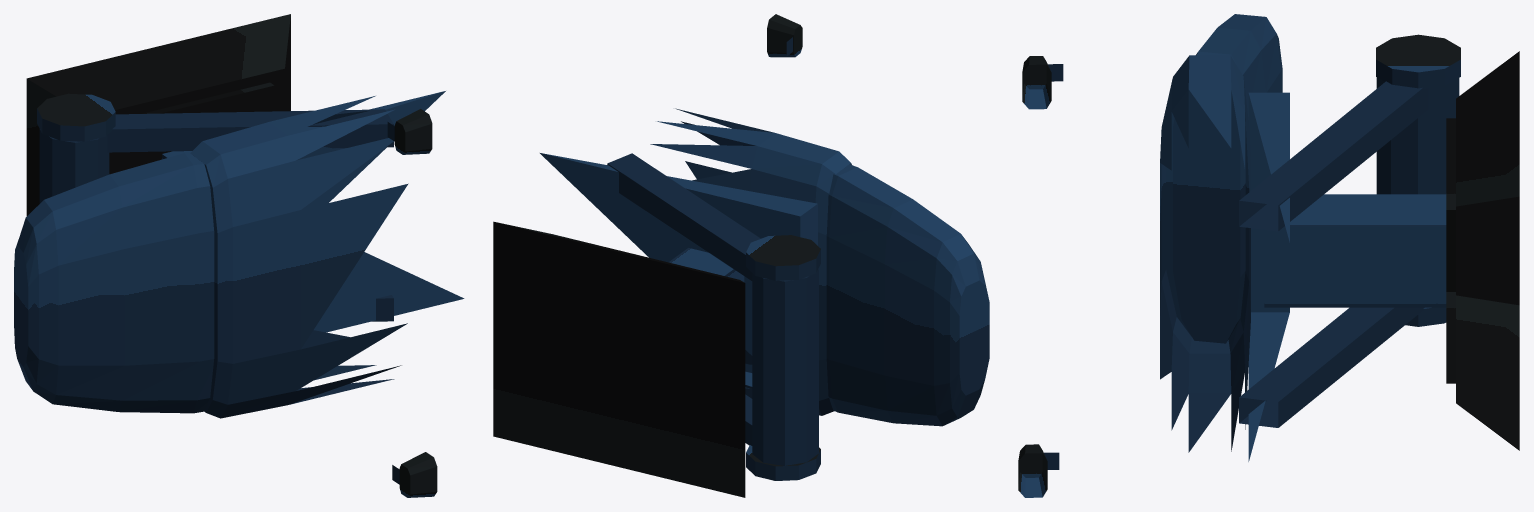
3 views of the same model, side by side, from view 1: azimuth 30°, elevation 25°; view 2: azimuth 150°, elevation 25°; view 3: azimuth 270°, elevation 25° (orthographic). The views are drawn at different scales.
Bounding box in the file's own units: 0.9101 × 0.7457 × 0.7858.
